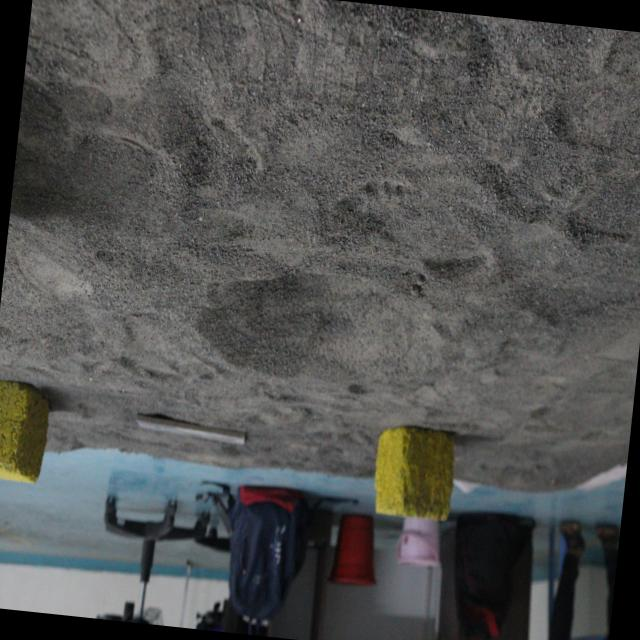box: (365, 422, 460, 534), (0, 379, 51, 491)
crater: (173, 253, 440, 402)
